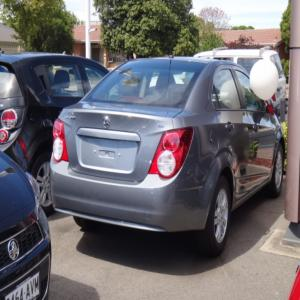Vehicle-registration-plate: (5, 275, 40, 300)
